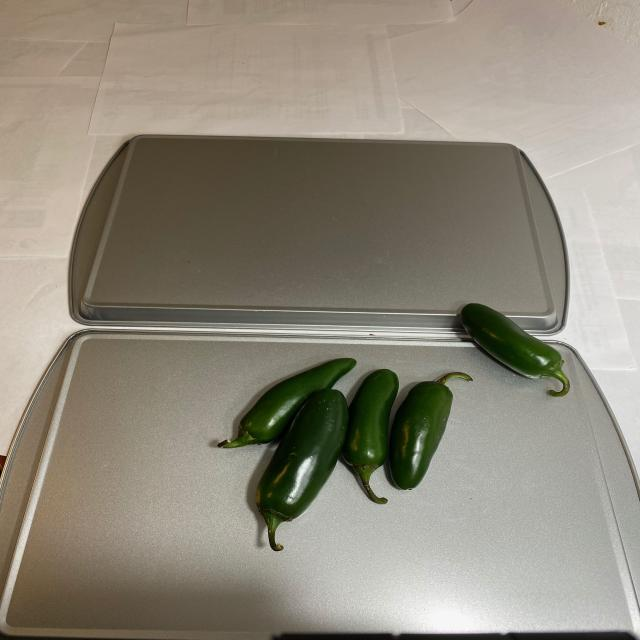chilli: (205, 307, 574, 556)
